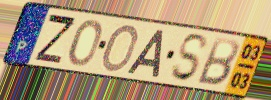A: (124, 28, 165, 79)
B: (194, 36, 241, 88)
O: (100, 23, 140, 74), (67, 19, 103, 68)
S: (169, 32, 210, 83)
Z: (32, 12, 78, 66)
